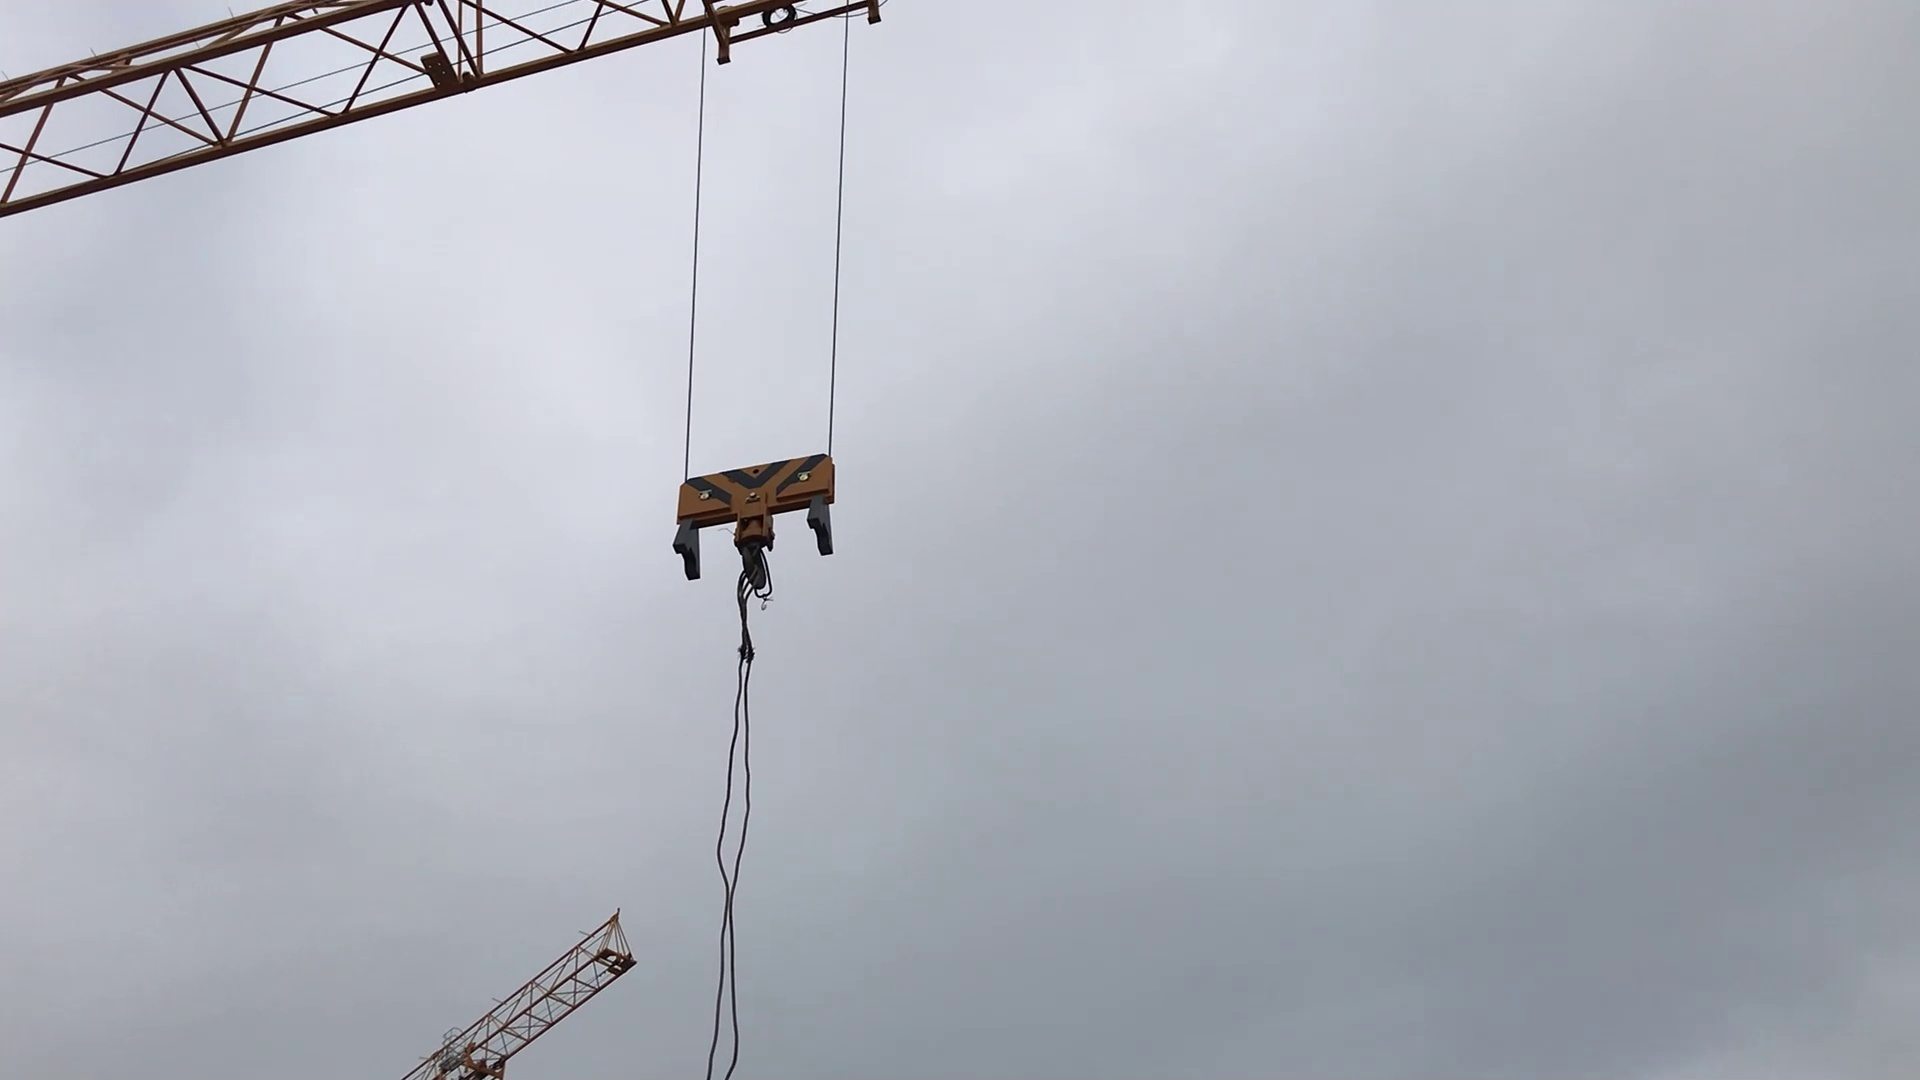hook: (665, 444, 847, 607)
